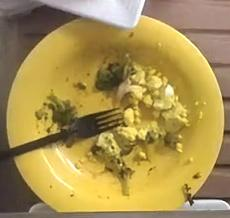hardboiled_egg: (92, 53, 189, 161)
